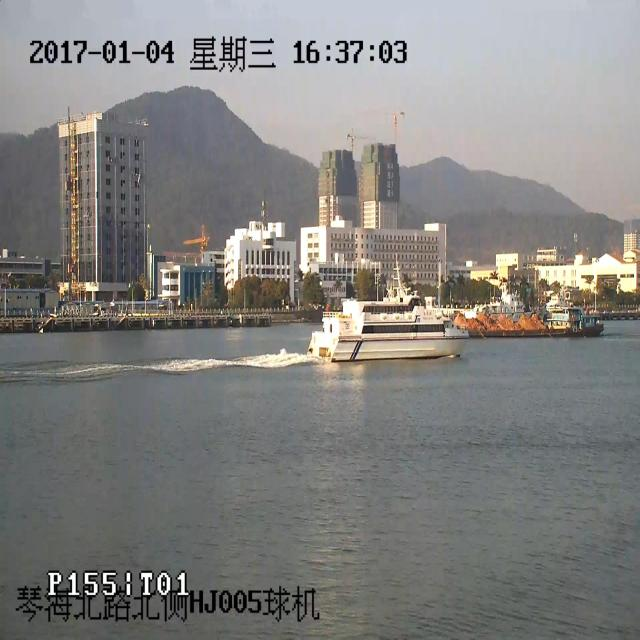cargoship: (442, 288, 617, 339)
passenger ship: (310, 274, 472, 363)
